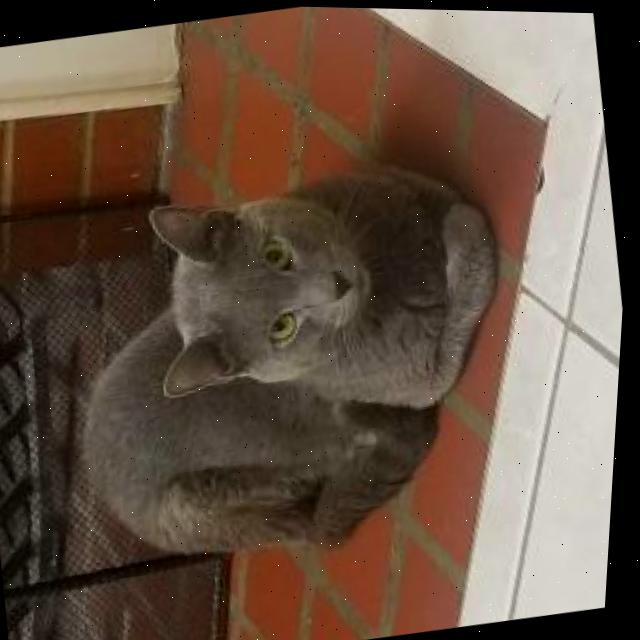Russian Blue: (35, 135, 555, 590)
